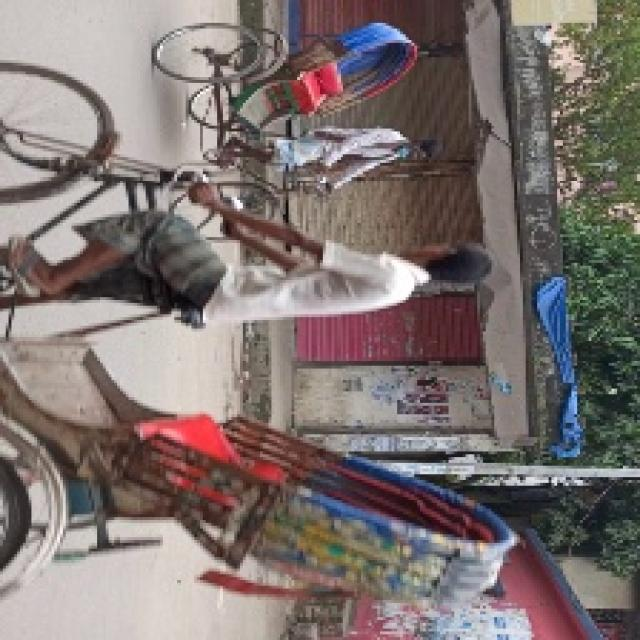rickshaw: (5, 59, 496, 595), (178, 17, 423, 239)
